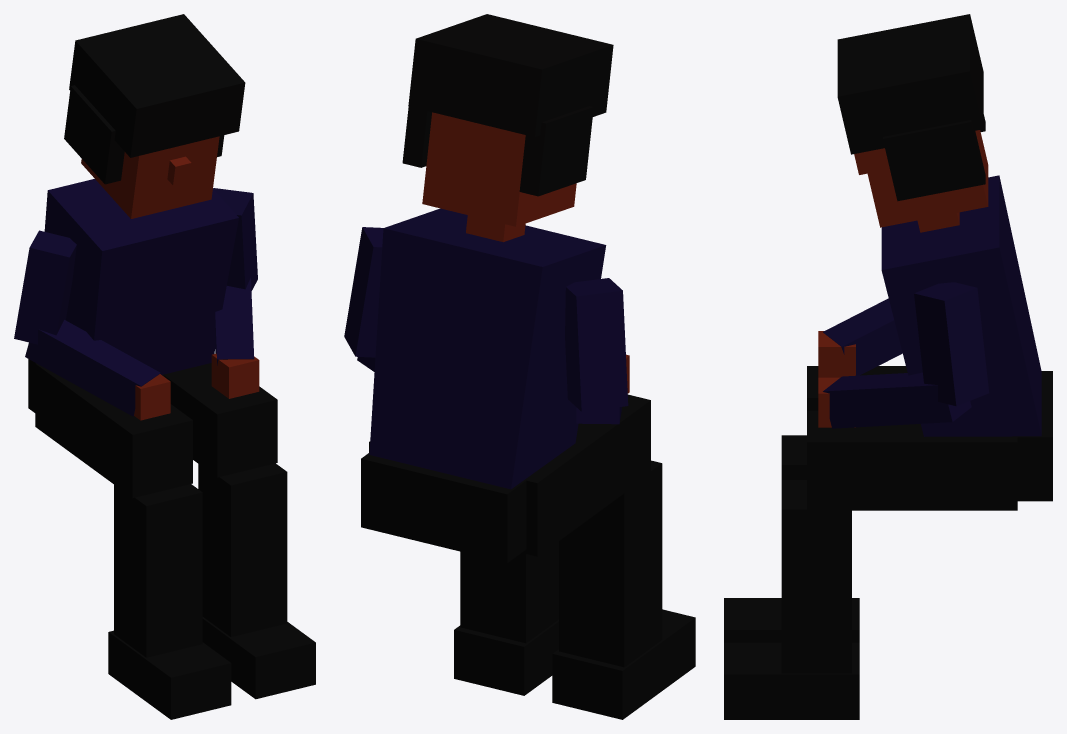
The model's file is espectador_F.obj.
3 renders of one model, left to right at view 1: azimuth 30°, elevation 25°; view 2: azimuth 150°, elevation 25°; view 3: azimuth 270°, elevation 25°, orthographic. The views are drawn at different scales.
Visible parts, largest first — view 1: Espectador_F_Cuerpo; view 2: Espectador_F_Cuerpo; view 3: Espectador_F_Cuerpo.
Part boxes in pixels (x1=…): Espectador_F_Cuerpo: x1=14, y1=14, x2=315, y2=719; Espectador_F_Cuerpo: x1=344, y1=14, x2=695, y2=719; Espectador_F_Cuerpo: x1=724, y1=14, x2=1052, y2=719.
Size of the model in its own units: 0.6064 by 1.4 by 0.655.
